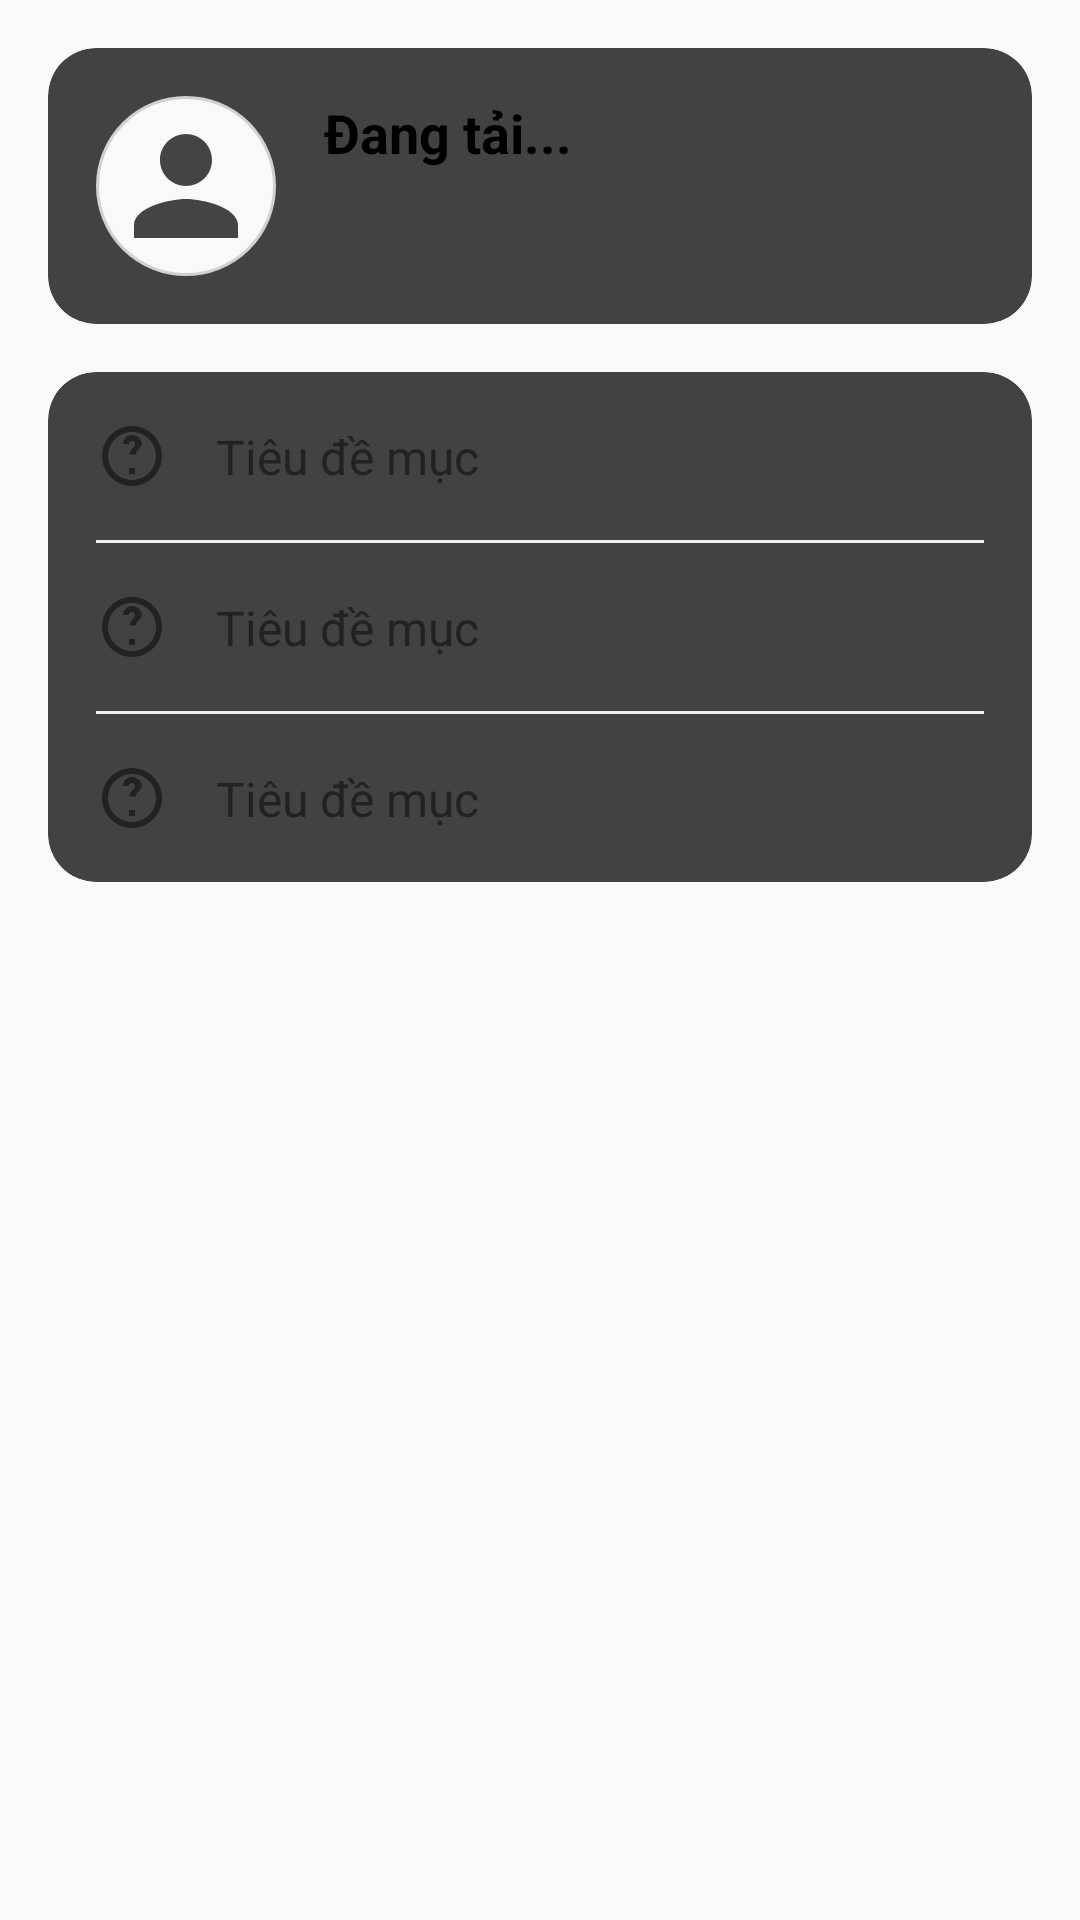

Point at icon controls on the screen. Image size 1080*1920, points as (x,y).
help: (132,456), (132,627), (132,798)
